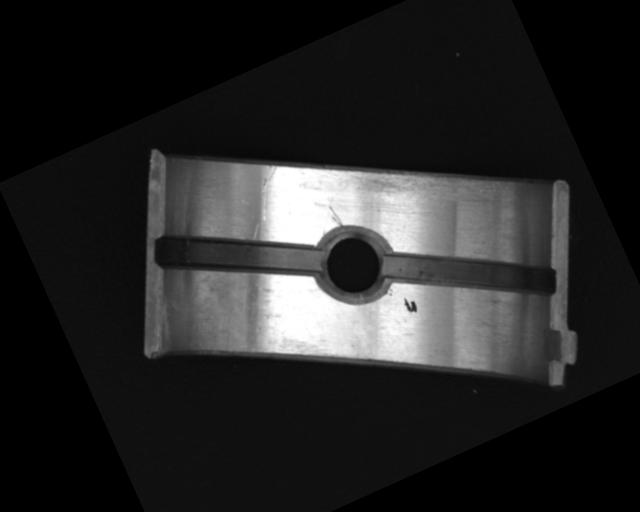blot: (401, 295, 419, 316)
gap: (380, 197, 563, 352), (149, 183, 325, 329)
hole: (302, 213, 405, 316)
nick: (242, 163, 296, 223), (326, 204, 343, 228)
scratch: (347, 113, 511, 245)
